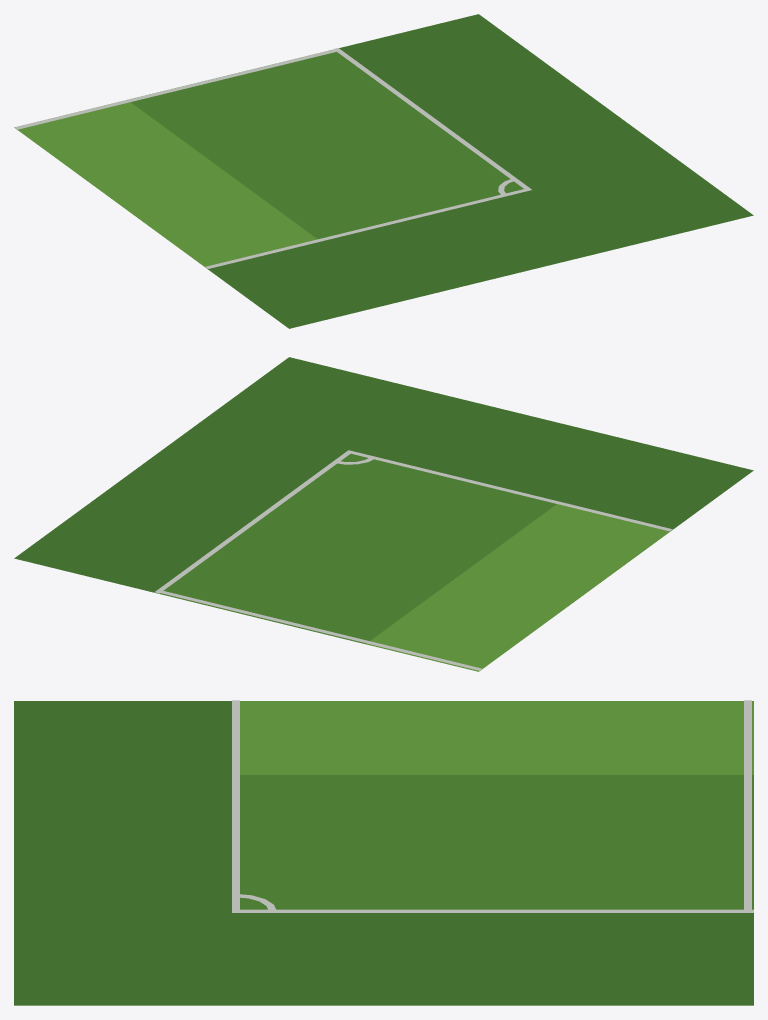
The model's file is pitch_5_3.glb.
The picture shows the model from 3 angles, top to bottom: view 1: azimuth 30°, elevation 25°; view 2: azimuth 150°, elevation 25°; view 3: azimuth 270°, elevation 25°; orthographic projection. The views are drawn at different scales.
Parts seen in each view (by area): view 1: pitch_5_3; view 2: pitch_5_3; view 3: pitch_5_3.
Boxes of the visible parts, <box> form: pitch_5_3: <box>14,14,753,328</box>; pitch_5_3: <box>14,357,753,671</box>; pitch_5_3: <box>14,700,753,1005</box>.
Size of the model in its own units: 19.5 by 0.02 by 20.
